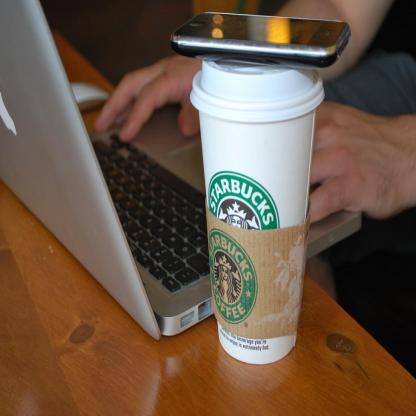board: (0, 0, 363, 341)
